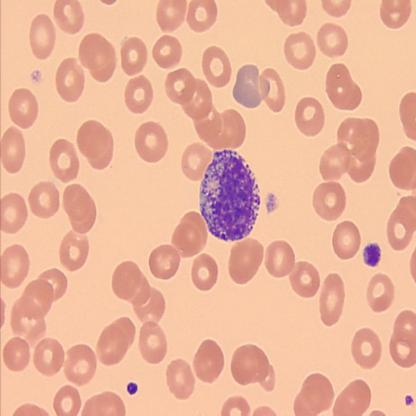Myelocyte: (197, 149, 260, 242)
